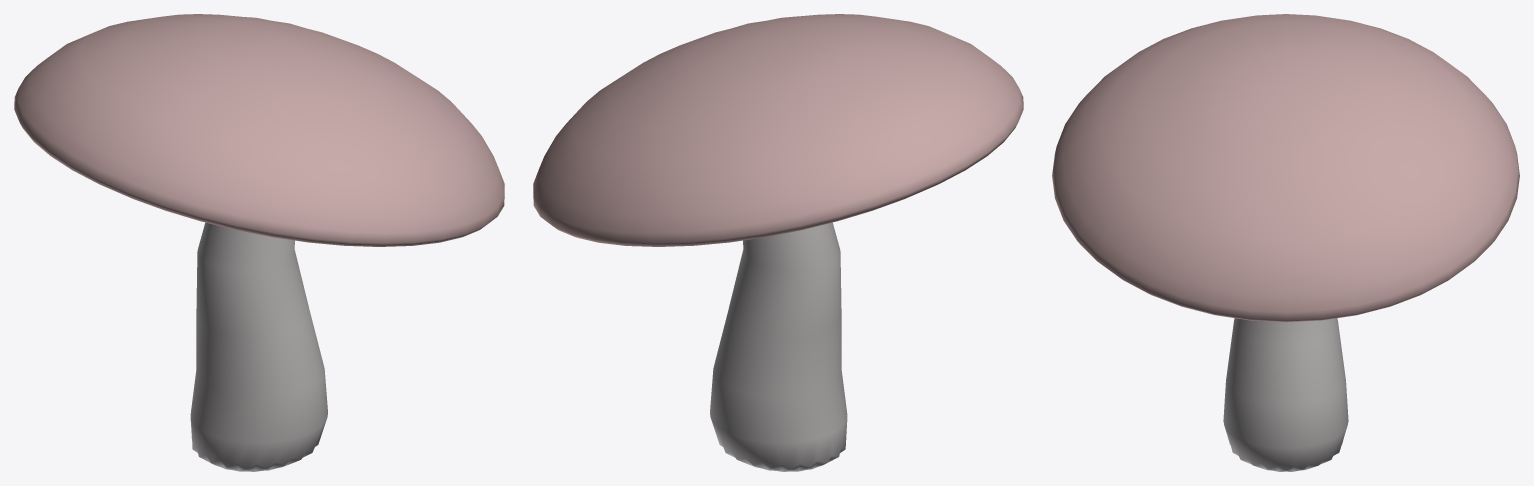
File: MushroomB_00.fbx
3 views of the same model, side by side, from view 1: azimuth 30°, elevation 25°; view 2: azimuth 150°, elevation 25°; view 3: azimuth 270°, elevation 25° (orthographic). The views are drawn at different scales.
Parts seen in each view (by area): view 1: pCylinder8; view 2: pCylinder8; view 3: pCylinder8.
Boxes of the visible parts, <box> form: pCylinder8: <box>14,14,504,471</box>; pCylinder8: <box>533,14,1023,471</box>; pCylinder8: <box>1052,14,1519,471</box>.
Size of the model in its own units: 7.75 by 7.23 by 7.96.
